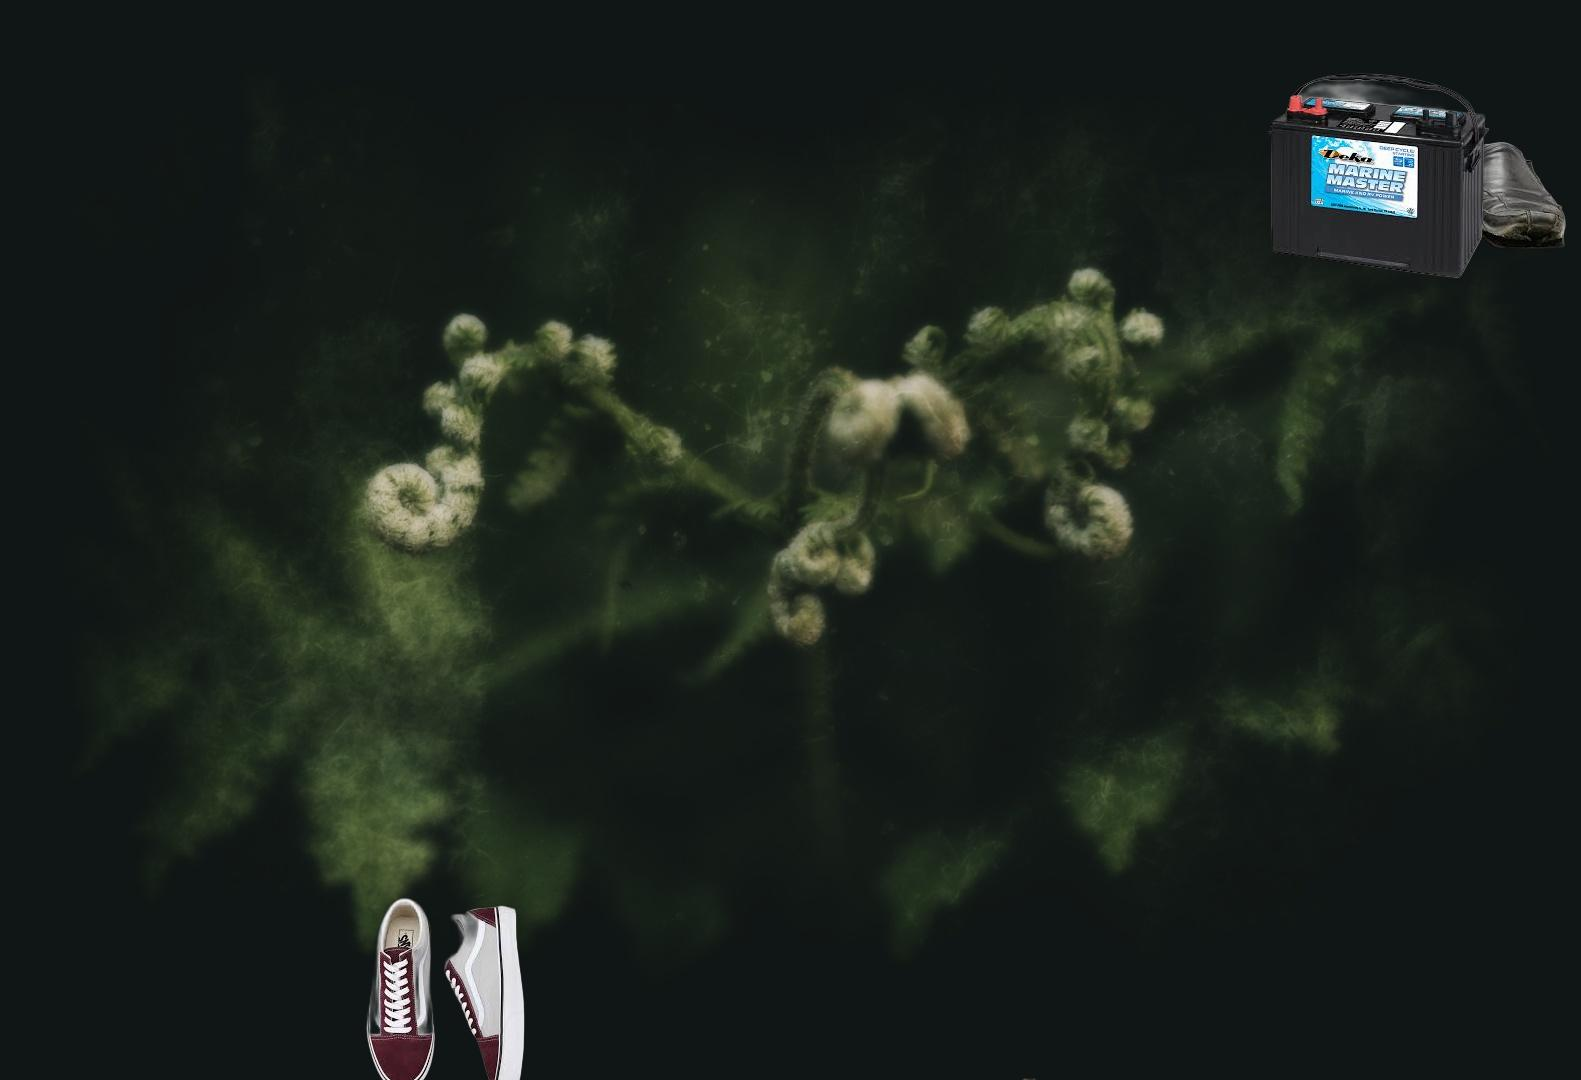battery: (1266, 71, 1491, 281)
paper: (723, 1075, 1045, 1080)
shoes: (363, 893, 527, 1080), (1320, 137, 1569, 256)
